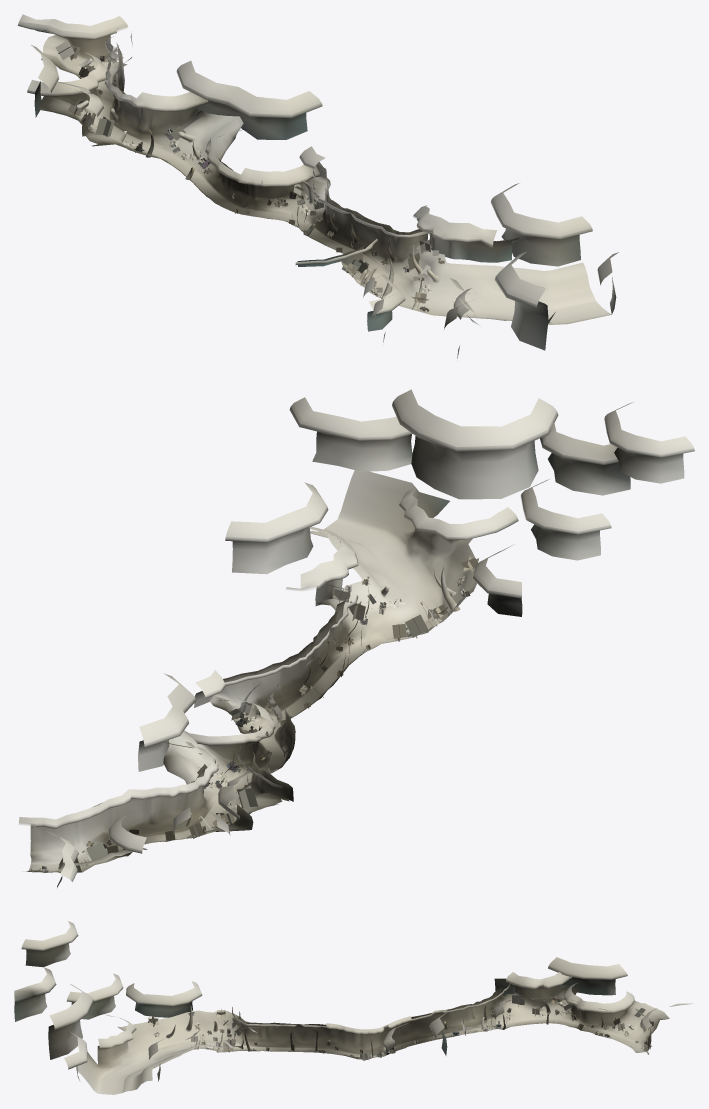
File: 01Opening.gltf
3 views of the same model, one above another, from view 1: azimuth 30°, elevation 25°; view 2: azimuth 150°, elevation 25°; view 3: azimuth 270°, elevation 25° (orthographic). The views are drawn at different scales.
Parts seen in each view (by area): view 1: stg040_o01_Mesh_0003, stg040_o01_Mesh_0002, stg040_o01_Mesh_0004, stg040_a01_Mesh_0000, stg040_o01_Mesh_0000, stg040_a01_Mesh_0003, stg040_o01_Mesh_0001, stg040_p01_Mesh_0003, stg040_p01_Mesh_0002, stg040_p01_Mesh_0004, stg040_p01_Mesh_0001; view 2: stg040_o01_Mesh_0003, stg040_o01_Mesh_0002, stg040_o01_Mesh_0004, stg040_a01_Mesh_0000, stg040_o01_Mesh_0000, stg040_a01_Mesh_0003, stg040_p01_Mesh_0003, stg040_p01_Mesh_0002, stg040_o01_Mesh_0001; view 3: stg040_o01_Mesh_0003, stg040_o01_Mesh_0002, stg040_o01_Mesh_0004, stg040_a01_Mesh_0000, stg040_o01_Mesh_0000, stg040_a01_Mesh_0003, stg040_p01_Mesh_0003, stg040_o01_Mesh_0001, stg040_p01_Mesh_0002, stg040_p01_Mesh_0004.
Part boxes in pixels (bbox=[...]): stg040_o01_Mesh_0003: bbox=[19, 14, 618, 327]; stg040_o01_Mesh_0002: bbox=[34, 30, 616, 358]; stg040_o01_Mesh_0004: bbox=[39, 35, 595, 323]; stg040_a01_Mesh_0000: bbox=[18, 21, 611, 328]; stg040_o01_Mesh_0000: bbox=[17, 22, 600, 329]; stg040_a01_Mesh_0003: bbox=[45, 37, 439, 309]; stg040_o01_Mesh_0001: bbox=[75, 58, 437, 309]; stg040_p01_Mesh_0003: bbox=[55, 40, 419, 273]; stg040_p01_Mesh_0002: bbox=[67, 55, 444, 303]; stg040_p01_Mesh_0004: bbox=[98, 82, 438, 294]; stg040_p01_Mesh_0001: bbox=[82, 58, 433, 297]; stg040_o01_Mesh_0003: bbox=[19, 389, 693, 878]; stg040_o01_Mesh_0002: bbox=[30, 431, 684, 887]; stg040_o01_Mesh_0004: bbox=[31, 470, 476, 872]; stg040_a01_Mesh_0000: bbox=[19, 401, 694, 880]; stg040_o01_Mesh_0000: bbox=[36, 403, 694, 881]; stg040_a01_Mesh_0003: bbox=[30, 531, 467, 872]; stg040_p01_Mesh_0003: bbox=[74, 601, 428, 872]; stg040_p01_Mesh_0002: bbox=[41, 556, 478, 873]; stg040_o01_Mesh_0001: bbox=[82, 564, 460, 860]; stg040_o01_Mesh_0003: bbox=[14, 921, 692, 1094]; stg040_o01_Mesh_0002: bbox=[14, 943, 651, 1081]; stg040_o01_Mesh_0004: bbox=[76, 985, 669, 1093]; stg040_a01_Mesh_0000: bbox=[14, 934, 648, 1093]; stg040_o01_Mesh_0000: bbox=[14, 935, 640, 1069]; stg040_a01_Mesh_0003: bbox=[98, 987, 666, 1067]; stg040_p01_Mesh_0003: bbox=[223, 991, 653, 1060]; stg040_o01_Mesh_0001: bbox=[166, 1000, 633, 1056]; stg040_p01_Mesh_0002: bbox=[147, 995, 647, 1057]; stg040_p01_Mesh_0004: bbox=[191, 1020, 638, 1058].
Size of the model in its own units: 157 by 56.78 by 377.
